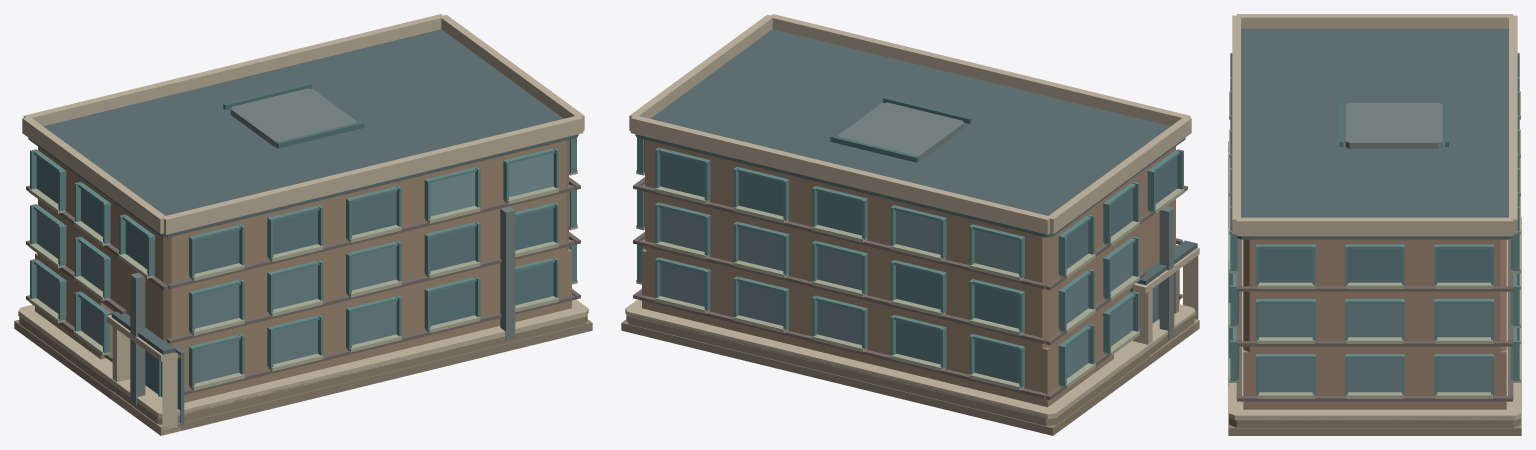
The model's file is logistics.glb.
3 renders of one model, left to right at view 1: azimuth 30°, elevation 25°; view 2: azimuth 150°, elevation 25°; view 3: azimuth 270°, elevation 25°, orthographic.
Parts seen in each view (by area): view 1: form, glaze, relief, glowing; view 2: form, relief, glaze, glowing; view 3: form, glaze, relief, glowing.
Part boxes in pixels (<box>): form: <box>14,14,592,435</box>; glaze: <box>36,153,569,424</box>; relief: <box>29,138,577,396</box>; glowing: <box>36,139,569,273</box>; form: <box>621,14,1199,435</box>; relief: <box>636,138,1184,390</box>; glaze: <box>644,139,1179,383</box>; glowing: <box>660,153,1088,328</box>; form: <box>1228,14,1521,435</box>; glaze: <box>1228,156,1512,392</box>; relief: <box>1228,53,1520,398</box>; glowing: <box>1237,238,1512,324</box>.
Size of the model in its own units: 17 by 8 by 10.
